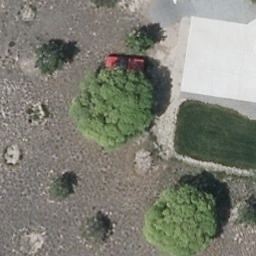car: (102, 55, 148, 80)
